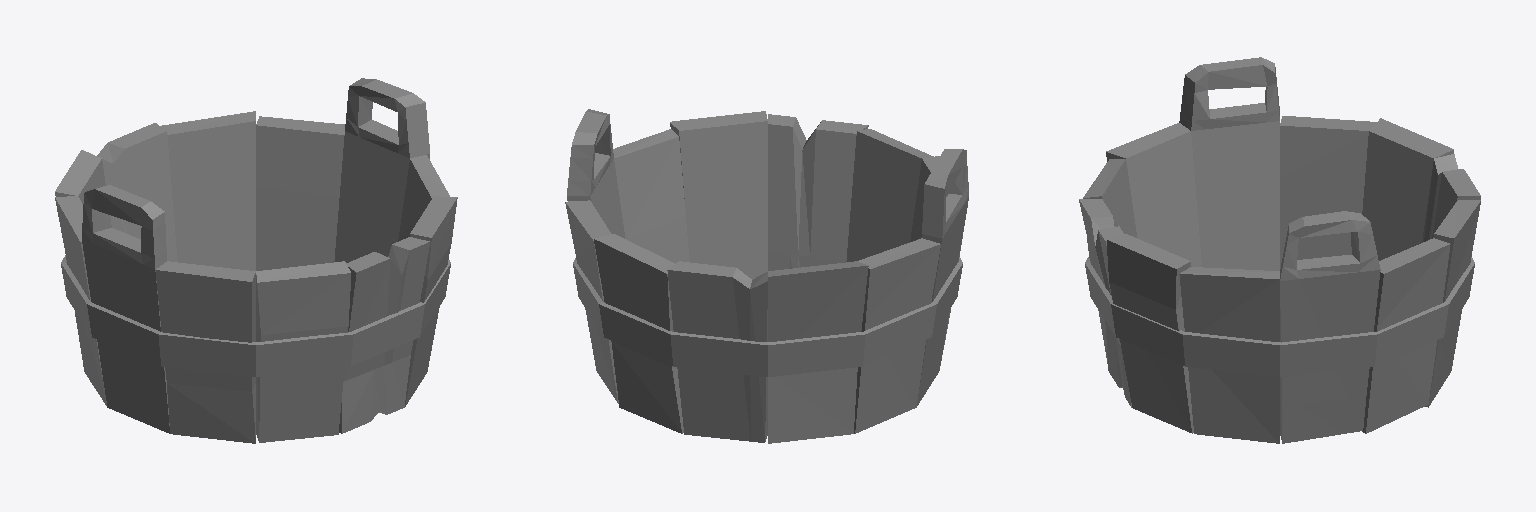
The model's file is basin.obj.
3 renders of one model, left to right at view 1: azimuth 30°, elevation 25°; view 2: azimuth 150°, elevation 25°; view 3: azimuth 270°, elevation 25°, orthographic.
Size of the model in its own units: 0.7626 by 0.4826 by 0.7626.